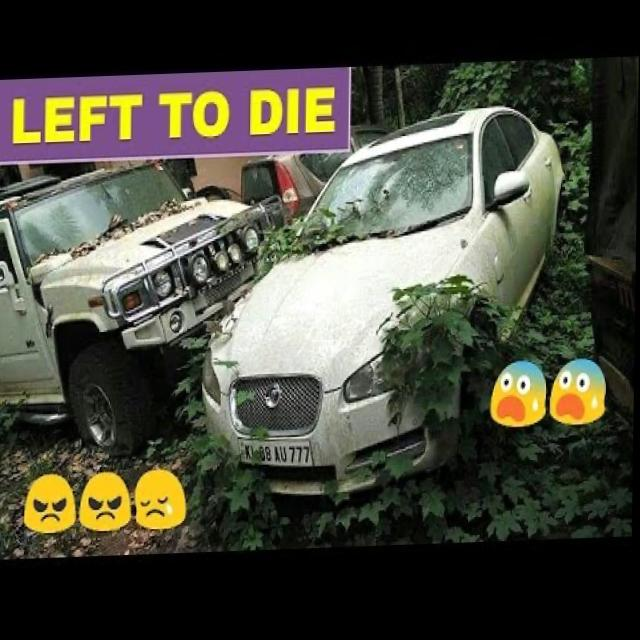licence: (235, 433, 318, 480)
